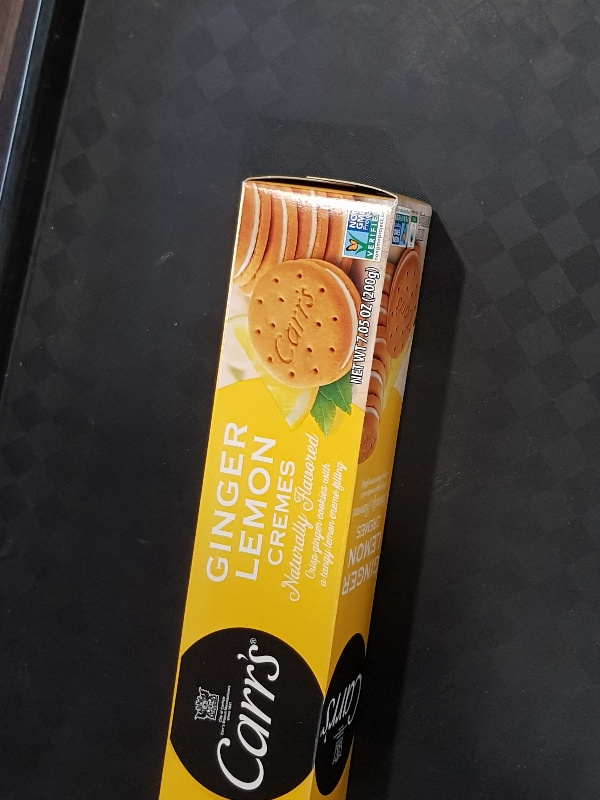Carr's Ginger Lemon Cremes: (158, 172, 433, 800)
